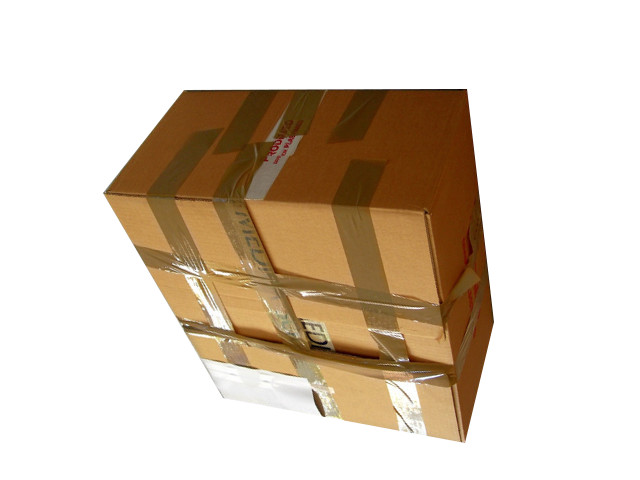cardboard: (105, 85, 523, 446)
